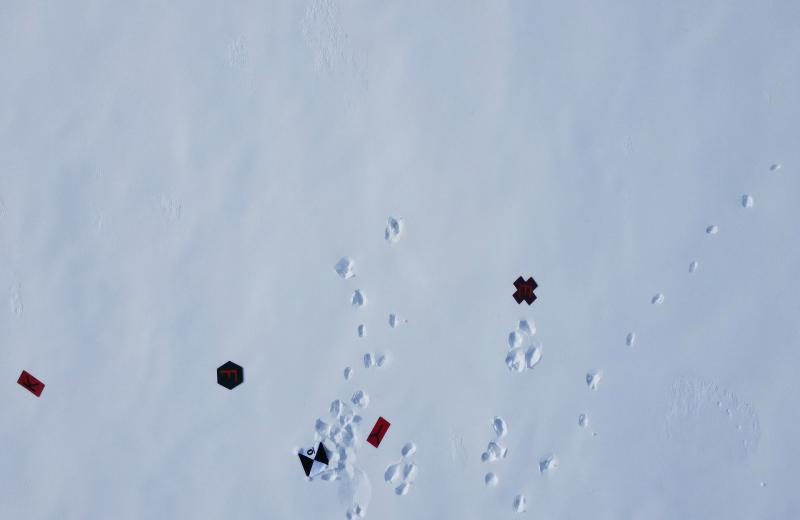Cross: (508, 273, 541, 308)
Hexagon: (213, 356, 246, 394)
Rectangle: (14, 365, 48, 402)
Semi Circle: (364, 411, 392, 451)
